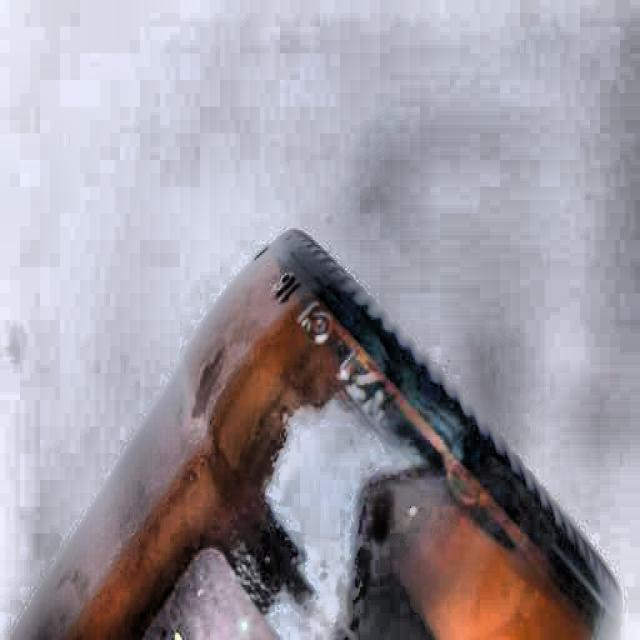glass: (0, 223, 623, 640)
